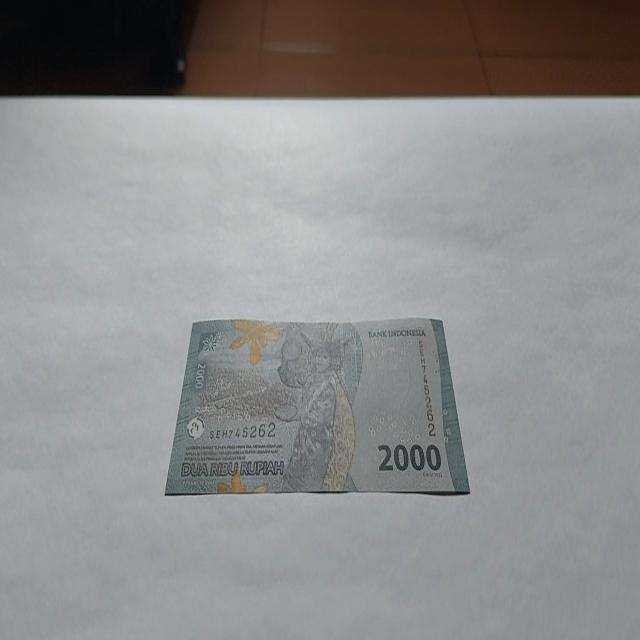dua ribu rupiah: (164, 315, 470, 497)
